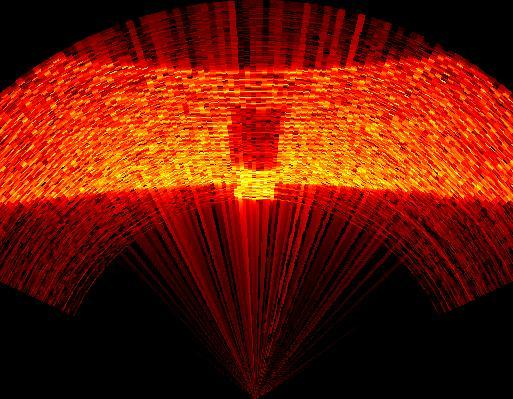box_crate: (228, 107, 292, 202)
